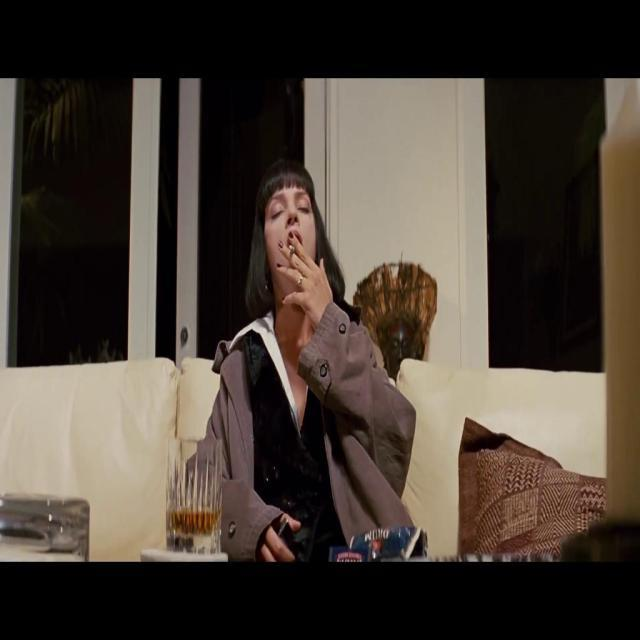smoking: (288, 243, 297, 255)
